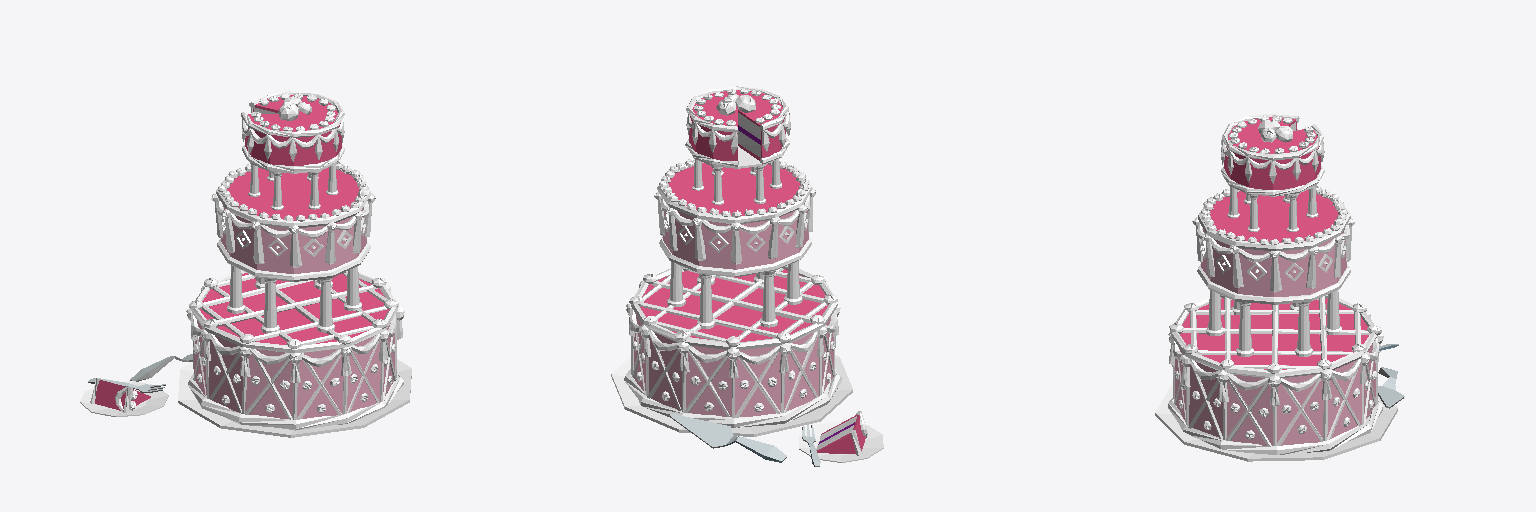
The picture shows the model from 3 angles: view 1: azimuth 30°, elevation 25°; view 2: azimuth 150°, elevation 25°; view 3: azimuth 270°, elevation 25°; orthographic projection.
Parts seen in each view (by area): view 1: group[number redacted], group[number redacted]; view 2: group[number redacted], group[number redacted], group[number redacted]; view 3: group[number redacted], group[number redacted].
Part boxes in pixels (left/top/right/bottom): group[number redacted]: left=178, top=91, right=411, bottom=437; group[number redacted]: left=80, top=378, right=168, bottom=416; group[number redacted]: left=611, top=86, right=852, bottom=436; group[number redacted]: left=799, top=411, right=883, bottom=466; group[number redacted]: left=670, top=414, right=786, bottom=462; group[number redacted]: left=1155, top=113, right=1397, bottom=461; group[number redacted]: left=1378, top=367, right=1404, bottom=408.
Bounding box in the file's own units: 1.93 × 1.97 × 1.49.